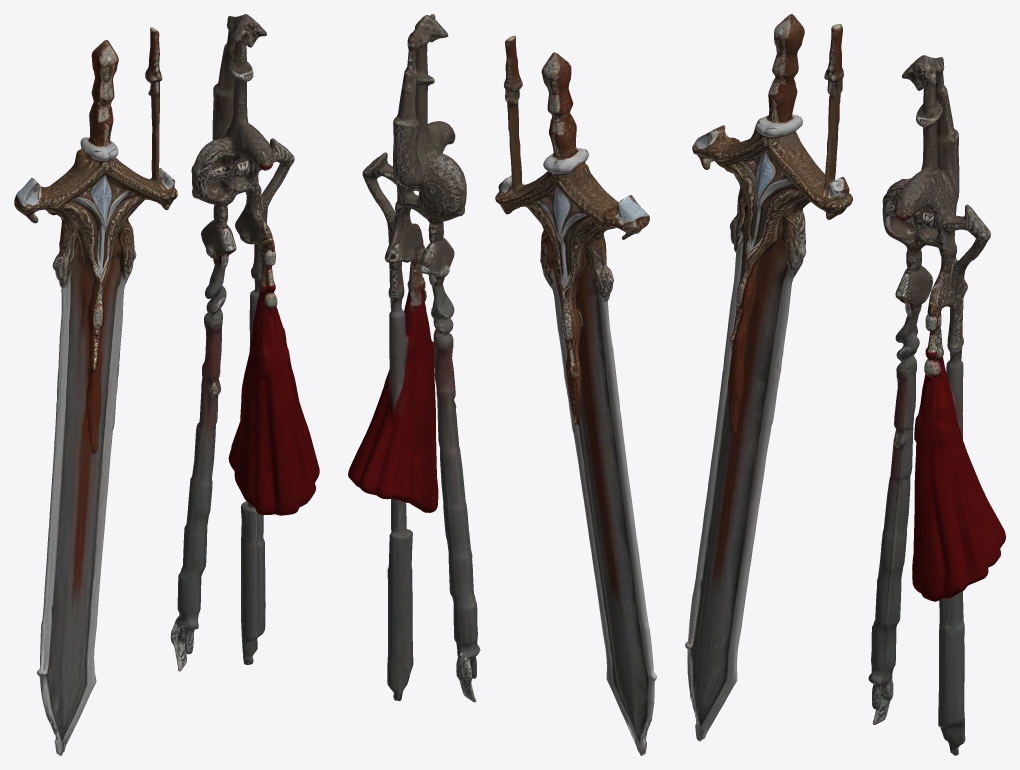
Rendered from wpn_guangze.glb.
3 views of the same model, side by side, from view 1: azimuth 30°, elevation 25°; view 2: azimuth 150°, elevation 25°; view 3: azimuth 330°, elevation 25° (orthographic). The views are drawn at different scales.
Visible parts, largest first — view 1: tripo_node_6ad1a5bc-9525-4346-9949-6bf3f4957f8e; view 2: tripo_node_6ad1a5bc-9525-4346-9949-6bf3f4957f8e; view 3: tripo_node_6ad1a5bc-9525-4346-9949-6bf3f4957f8e.
Part boxes in pixels (x1,y1,x2,y2): tripo_node_6ad1a5bc-9525-4346-9949-6bf3f4957f8e: (14,14,319,755); tripo_node_6ad1a5bc-9525-4346-9949-6bf3f4957f8e: (348,14,656,755); tripo_node_6ad1a5bc-9525-4346-9949-6bf3f4957f8e: (685,14,1005,755).
Bounding box in the file's own units: 0.4297 × 0.9799 × 0.1319.
1 material, 1 textured.
